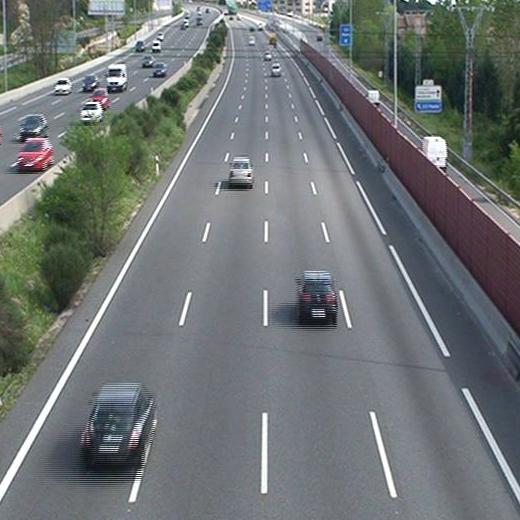car: (81, 382, 154, 468), (298, 271, 339, 325), (229, 156, 255, 185), (271, 63, 282, 77), (263, 50, 273, 60)
